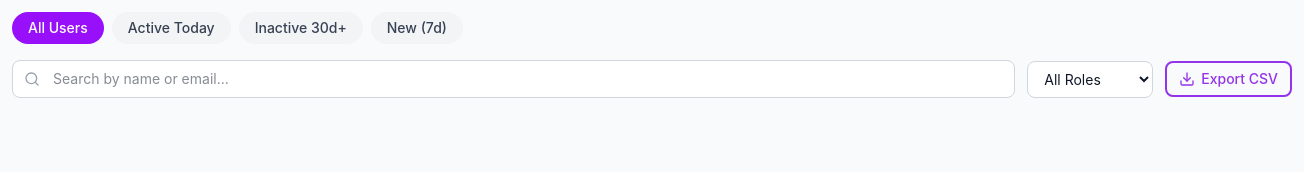
UserFilters › shows an accessible error when the export fails
Click the button "Export CSV" at (1229, 79), box [1165,61,1292,97]
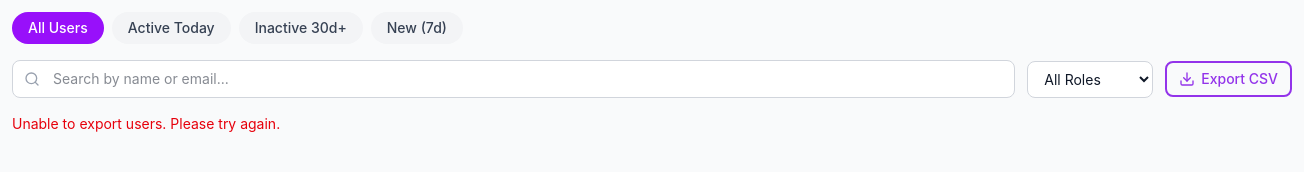
Expected: the message shows "Unable to export users", [12,115,280,132]
